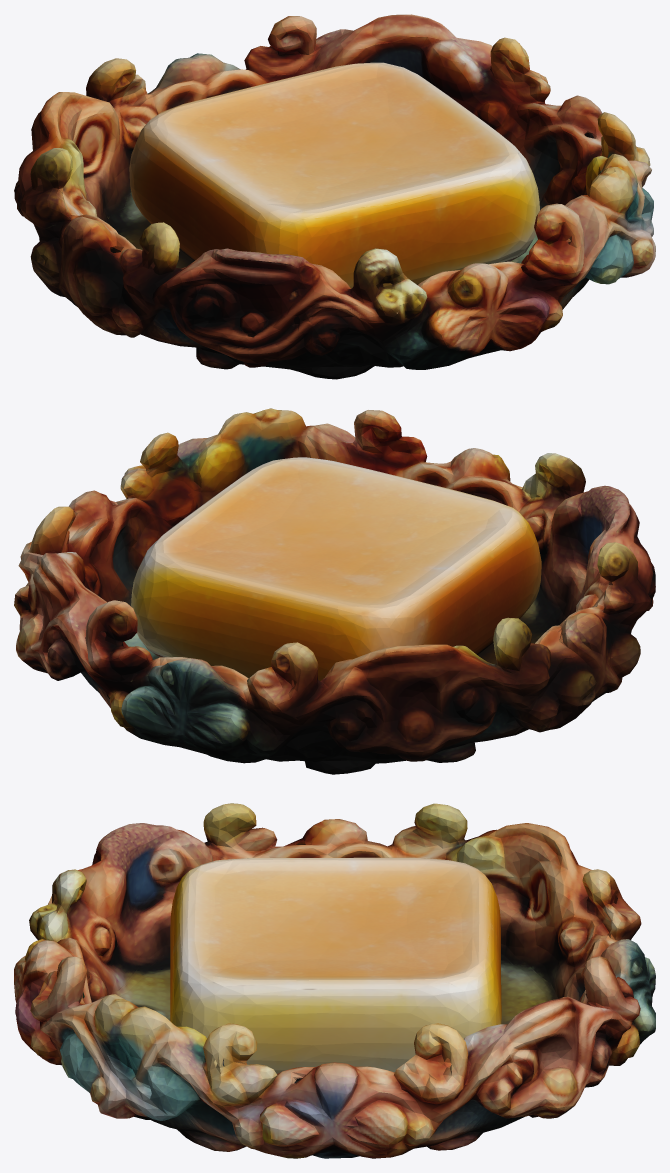
File: handmade-clay-soap-holder-3d.jpeg.glb
The picture shows the model from 3 angles, top to bottom: view 1: azimuth 30°, elevation 25°; view 2: azimuth 150°, elevation 25°; view 3: azimuth 270°, elevation 25°; orthographic projection.
Visible parts, largest first — view 1: world; view 2: world; view 3: world.
Boxes of the visible parts, x1=… form: world: x1=14, y1=14, x2=655, y2=379; world: x1=14, y1=408, x2=655, y2=774; world: x1=14, y1=803, x2=655, y2=1158.
Size of the model in its own units: 1 by 0.256 by 0.9983.
1 material, 1 textured.
